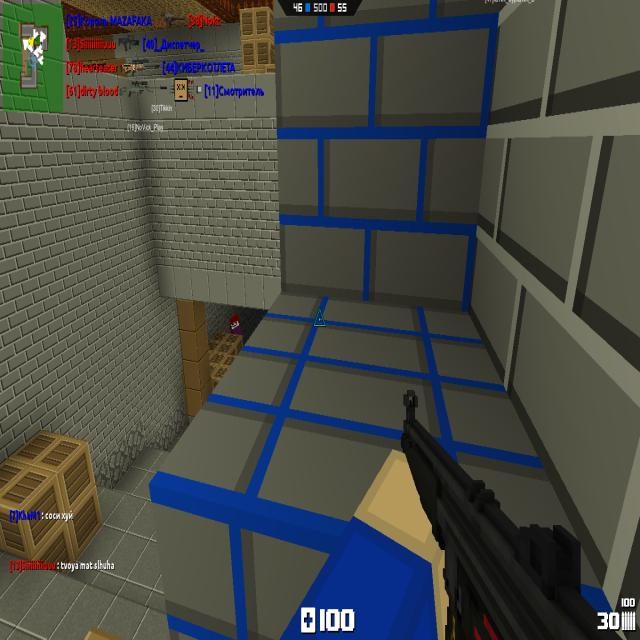enemy: (229, 313, 244, 345)
